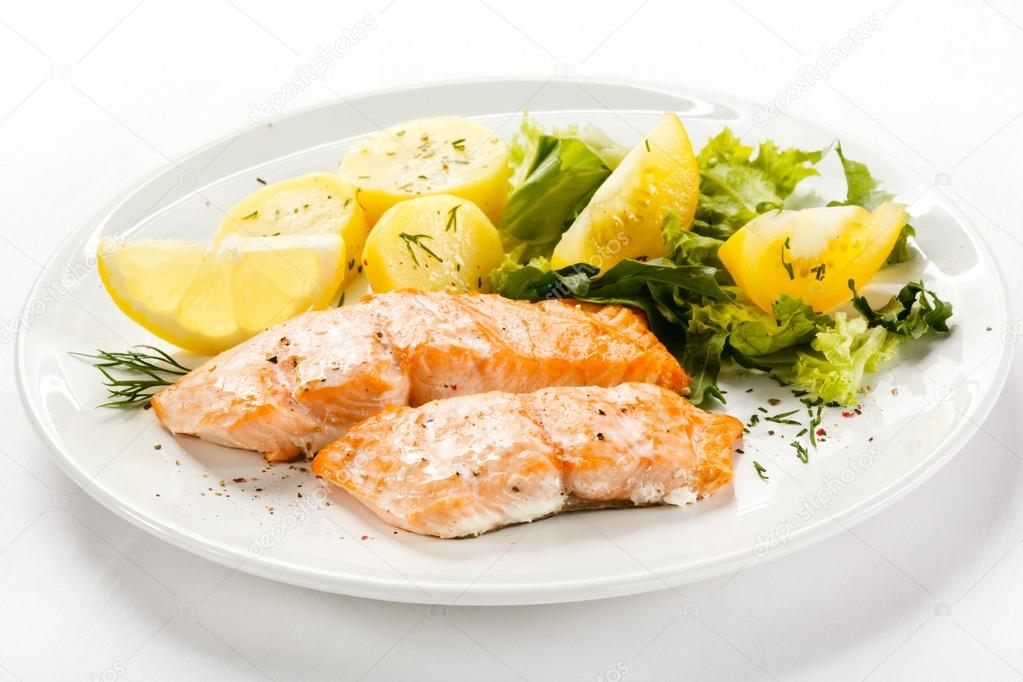chopped lettuce: (706, 141, 824, 207)
